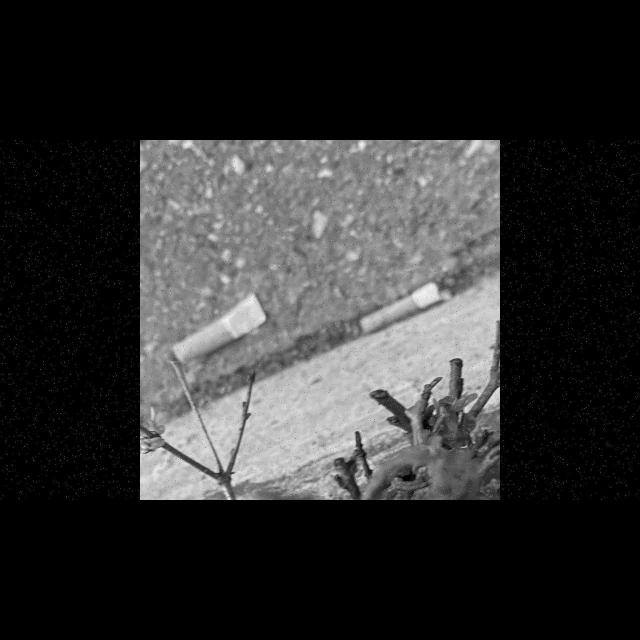cigarette: (172, 292, 268, 364), (358, 281, 441, 333)
